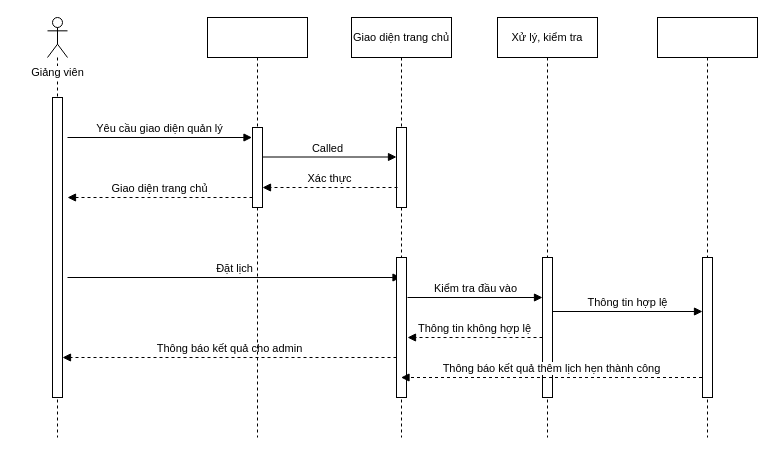
The diagram is 775 pixels wide and 455 high, and some of its shapes have lost their labels. Each missing label, with the box of its shape:
Database: (656, 16, 758, 438)
Giao diện hệ thống: (206, 16, 308, 438)
